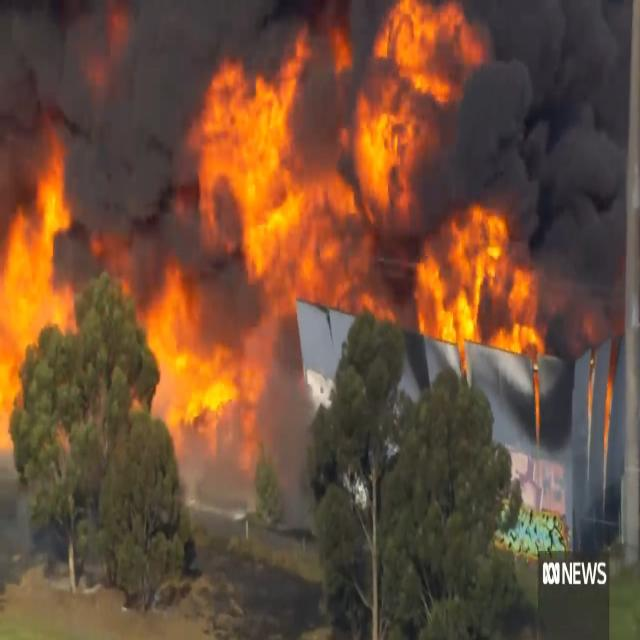fire: (192, 2, 494, 325), (149, 272, 253, 417), (0, 140, 78, 331), (0, 331, 29, 445)
